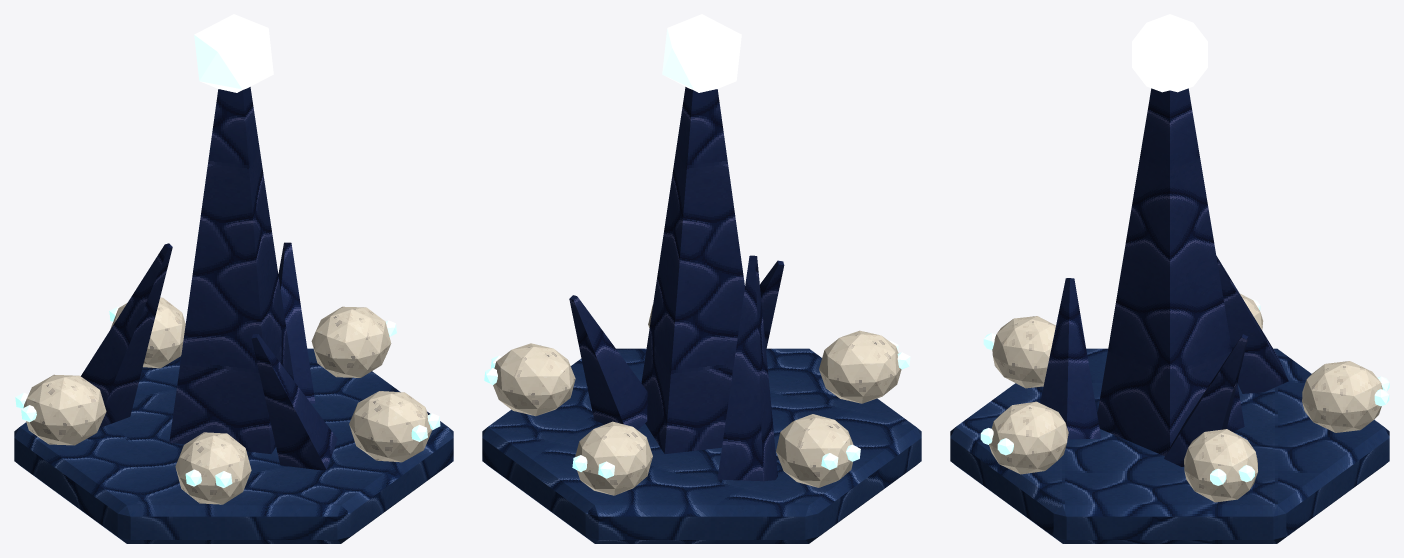
The model's file is cursed.glb.
The picture shows the model from 3 angles, left to right: view 1: azimuth 30°, elevation 25°; view 2: azimuth 150°, elevation 25°; view 3: azimuth 270°, elevation 25°; orthographic projection.
Visible parts, largest first — view 1: Base, Spire, Shard1, Shard2, Flame, Skull2, Skull0, Skull4, Skull3, Shard0, Skull1; view 2: Base, Spire, Shard1, Shard0, Flame, Skull3, Skull0, Skull2, Skull1, Shard2; view 3: Base, Spire, Shard2, Flame, Skull1, Skull4, Skull0, Shard1, Skull3, Shard0.
Boxes of the visible parts, <box> form: Base: <box>14,348,453,543</box>; Spire: <box>169,87,293,453</box>; Shard1: <box>81,243,172,427</box>; Shard2: <box>251,334,337,470</box>; Flame: <box>194,14,273,92</box>; Skull2: <box>23,374,106,445</box>; Skull0: <box>311,306,391,377</box>; Skull4: <box>349,391,432,462</box>; Skull3: <box>175,432,251,504</box>; Shard0: <box>278,242,315,403</box>; Skull1: <box>110,297,185,368</box>; Base: <box>482,348,921,543</box>; Spire: <box>641,87,744,453</box>; Shard1: <box>717,255,777,481</box>; Shard0: <box>569,295,647,429</box>; Flame: <box>662,14,741,92</box>; Skull3: <box>819,330,901,403</box>; Skull0: <box>493,343,575,416</box>; Skull2: <box>776,414,853,487</box>; Skull1: <box>575,421,652,495</box>; Shard2: <box>760,260,784,350</box>; Base: <box>950,348,1389,543</box>; Spire: <box>1097,88,1244,455</box>; Shard2: <box>1040,278,1101,439</box>; Flame: <box>1132,14,1207,92</box>; Skull1: <box>1302,361,1382,432</box>; Skull4: <box>989,401,1068,474</box>; Skull0: <box>1184,429,1257,502</box>; Shard1: <box>1216,256,1288,393</box>; Skull3: <box>992,316,1055,388</box>; Shard0: <box>1164,334,1248,466</box>.
Bounding box in the file's own units: 4.01 × 4.67 × 4.12.
Materials: 5 (3 with a texture image).
